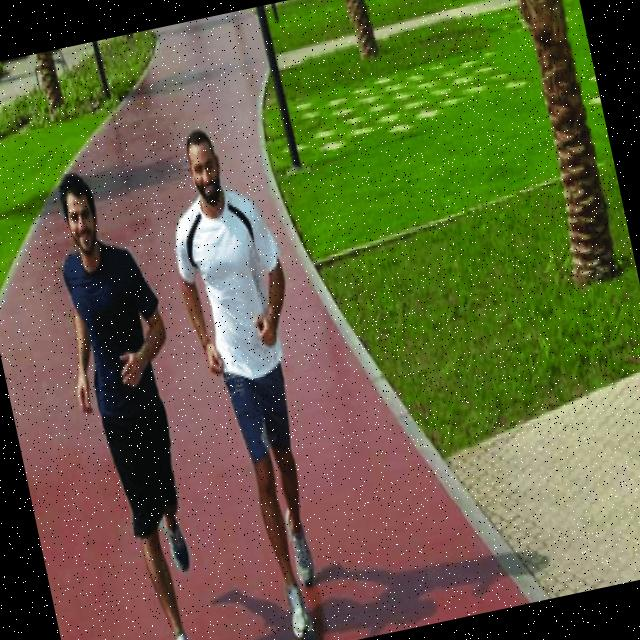Person: (149, 119, 357, 640), (32, 158, 236, 640)
